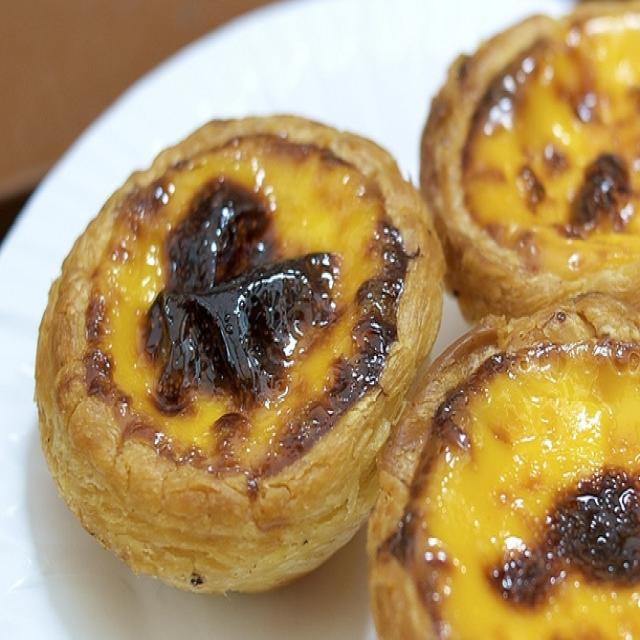炸货点心: (14, 9, 636, 629)
蛋糕甜品: (14, 9, 636, 629)
